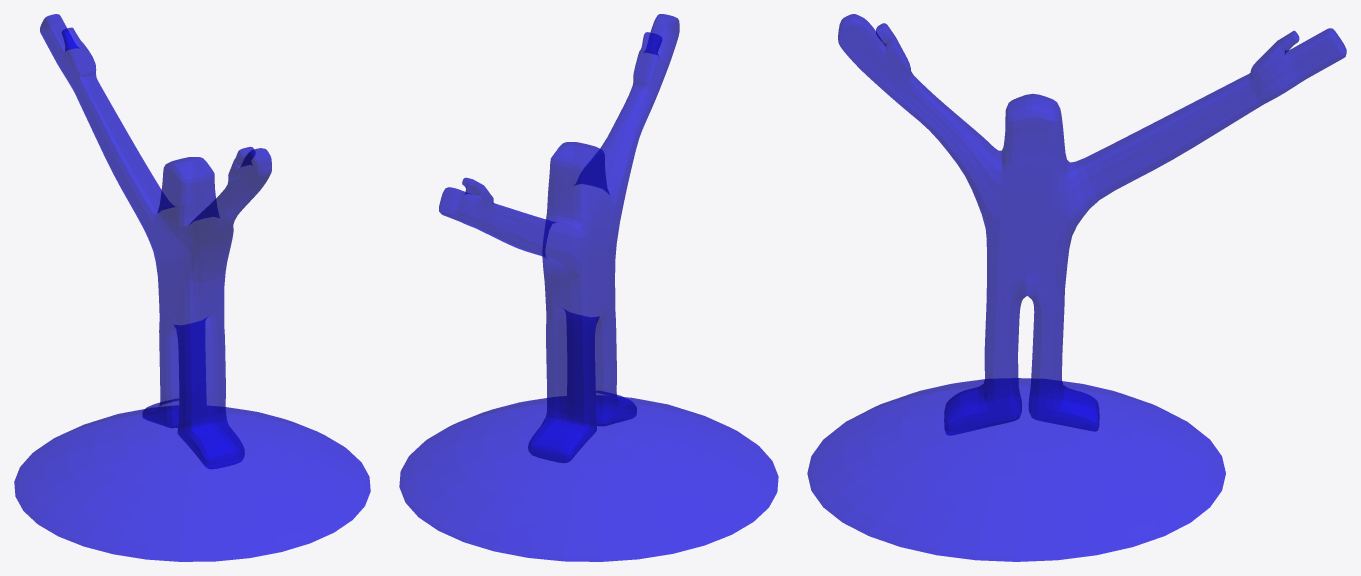
File: biboonkeonini.glb
3 views of the same model, side by side, from view 1: azimuth 30°, elevation 25°; view 2: azimuth 150°, elevation 25°; view 3: azimuth 270°, elevation 25° (orthographic). The views are drawn at different scales.
Parts seen in each view (by area): view 1: Mound, Biboonkeonini.001; view 2: Mound, Biboonkeonini.001; view 3: Mound, Biboonkeonini.001.
Part boxes in pixels (left/top/right/bottom): Mound: left=14, top=406, right=370, bottom=561; Biboonkeonini.001: left=40, top=14, right=271, bottom=468; Mound: left=399, top=396, right=778, bottom=561; Biboonkeonini.001: left=439, top=14, right=679, bottom=463; Mound: left=807, top=378, right=1225, bottom=561; Biboonkeonini.001: left=838, top=14, right=1346, bottom=435.
Size of the model in its own units: 9.49 by 11.38 by 12.23.
